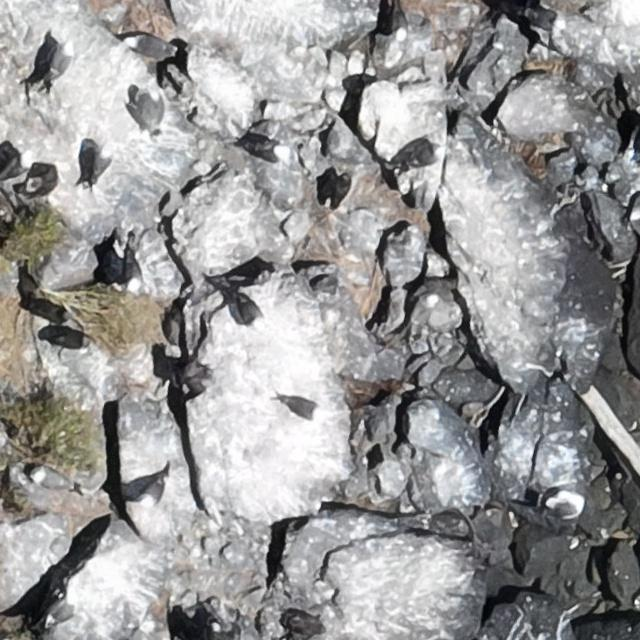umineko: (124, 32, 178, 62), (139, 87, 163, 138), (519, 6, 569, 30), (546, 490, 586, 520), (250, 142, 291, 162), (235, 297, 260, 326), (387, 8, 407, 44), (285, 398, 319, 419), (36, 472, 71, 489), (125, 258, 142, 291), (142, 479, 163, 505), (94, 147, 109, 178)
